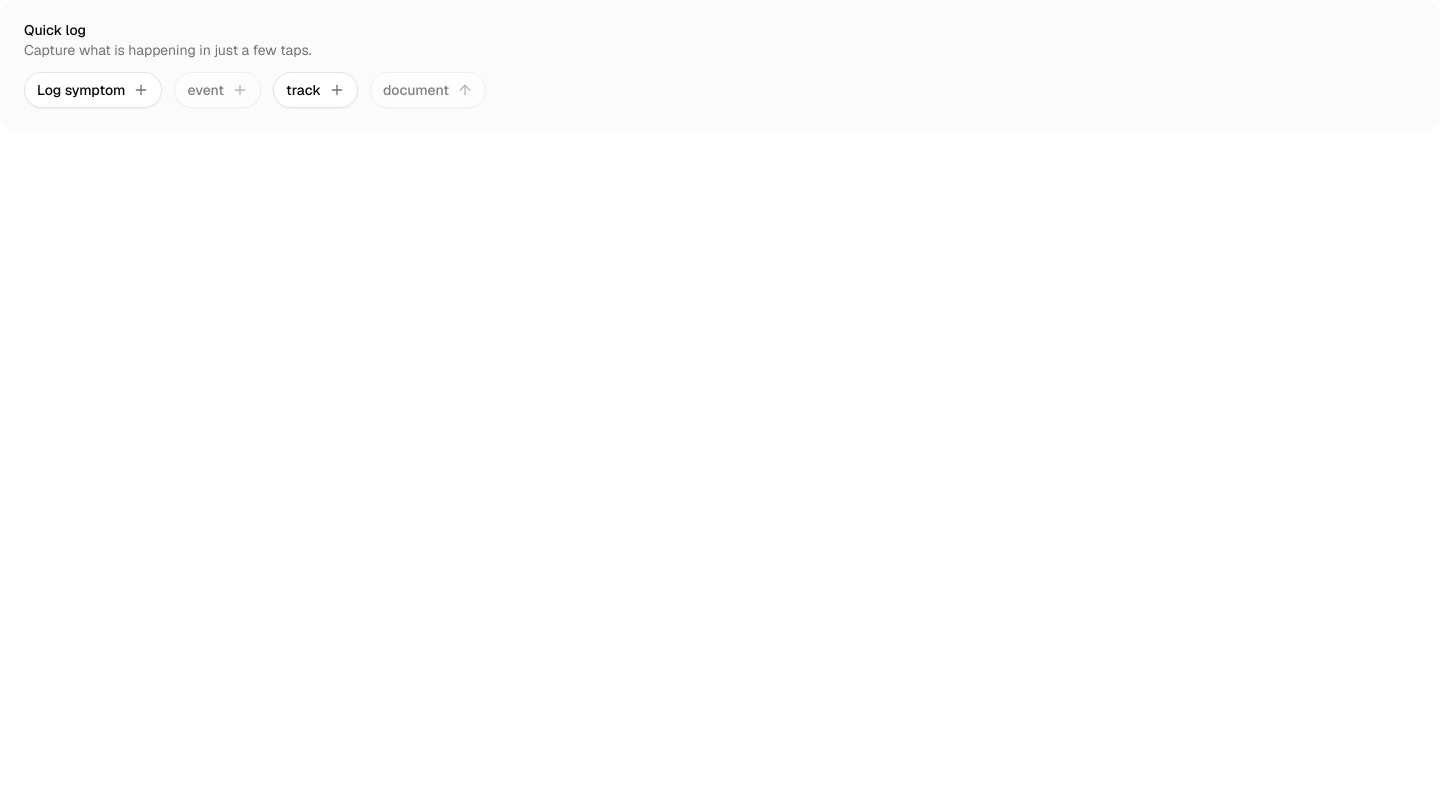
Test case: HubQuickActions - track button › closes track create dialog when cancel is clicked
The width and height of the screenshot is (1440, 810).
What coordinates should you click on to do the following:
click the button "track"
I would click on:
 (315, 90)
Its box is [273,72,358,108].
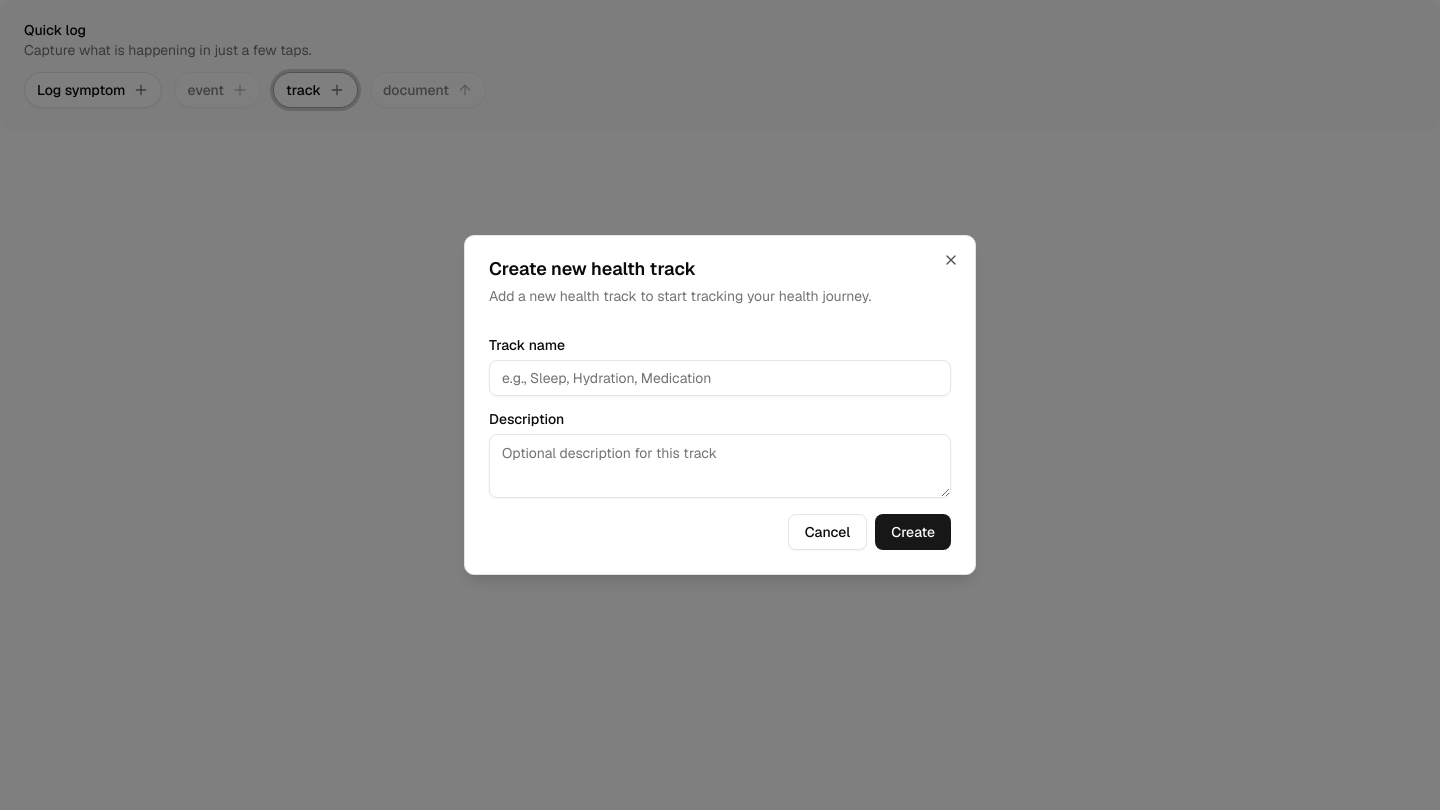
Expected: the heading "Create new health track" is shown, [489,257,696,280]
What coordinates should you click on to do the following:
click the button "Cancel"
I would click on:
 (828, 532)
Its box is [788,514,867,550].
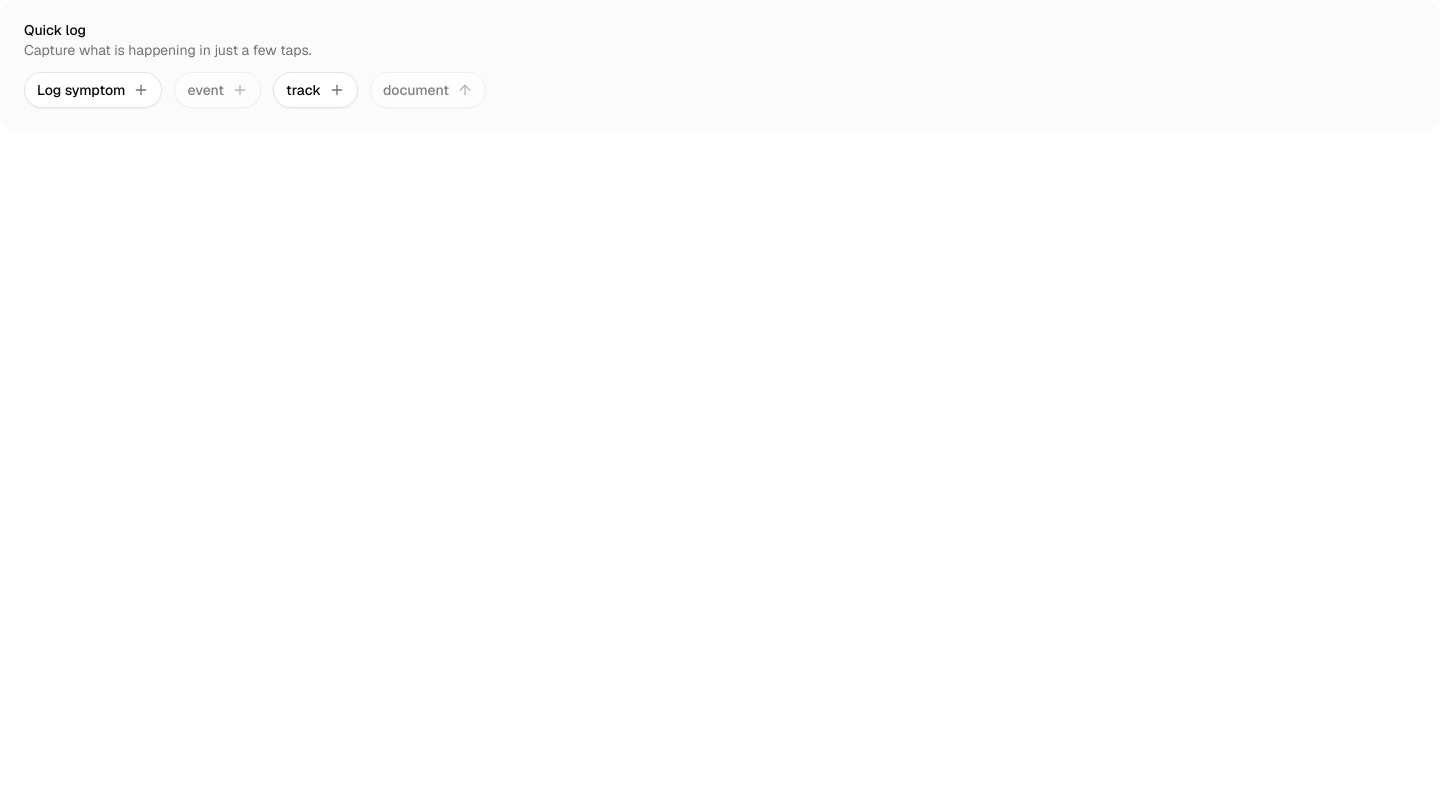
Expected: the heading "Create new health track" is gone
